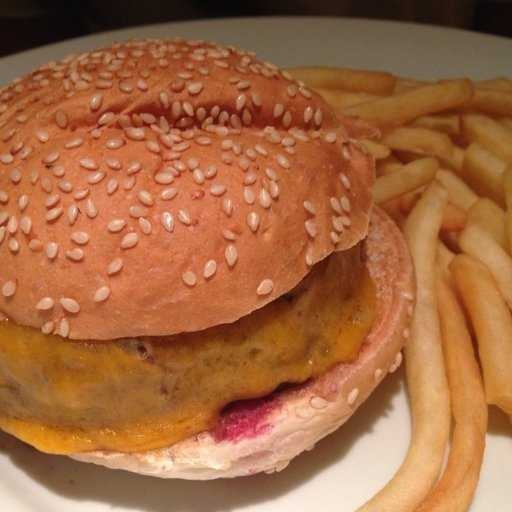hamburger: (1, 32, 423, 470)
